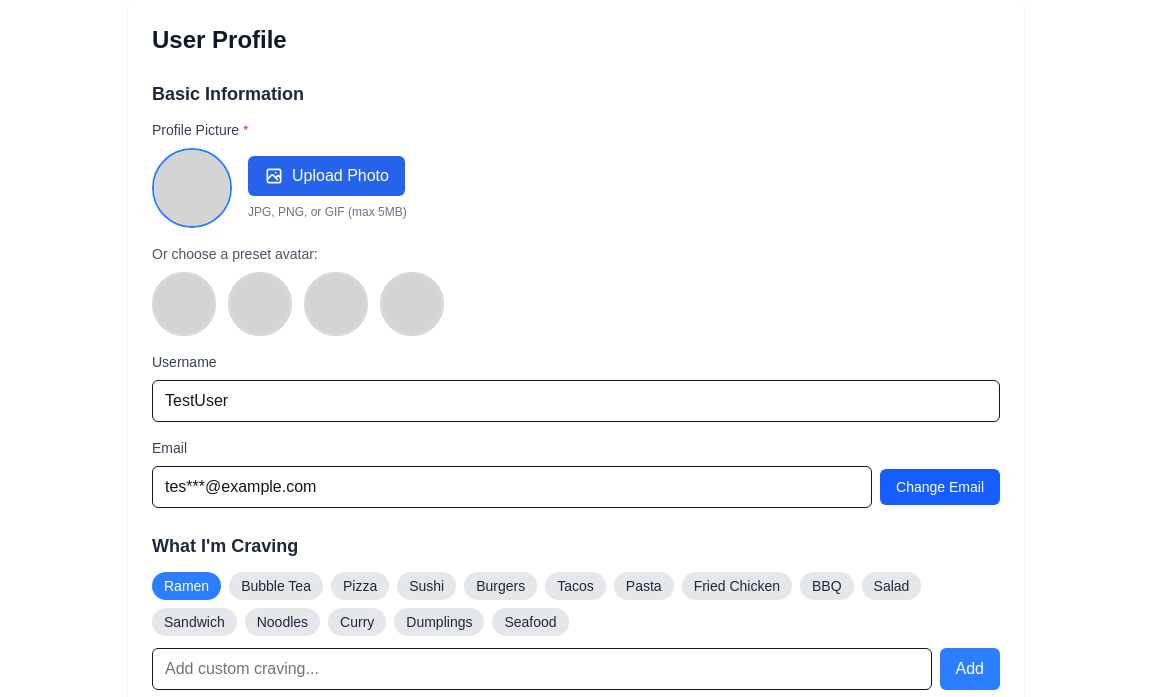
Test: UserProfileForm › allows adding custom craving
The image size is (1152, 697).
Type "Custom Food" into the field with placeholder "Add custom craving...". click: (542, 669)
box: [152, 648, 932, 690]
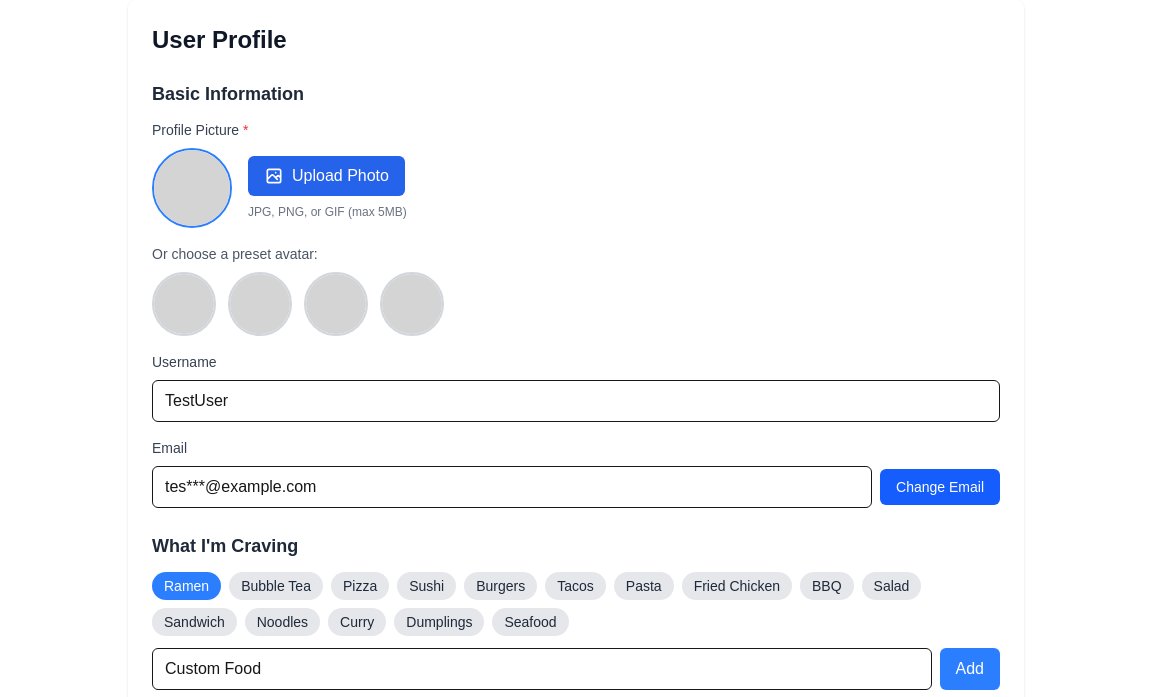
Click the button "Add". click: (970, 669)
box: [940, 648, 1000, 690]
(page scrolled)
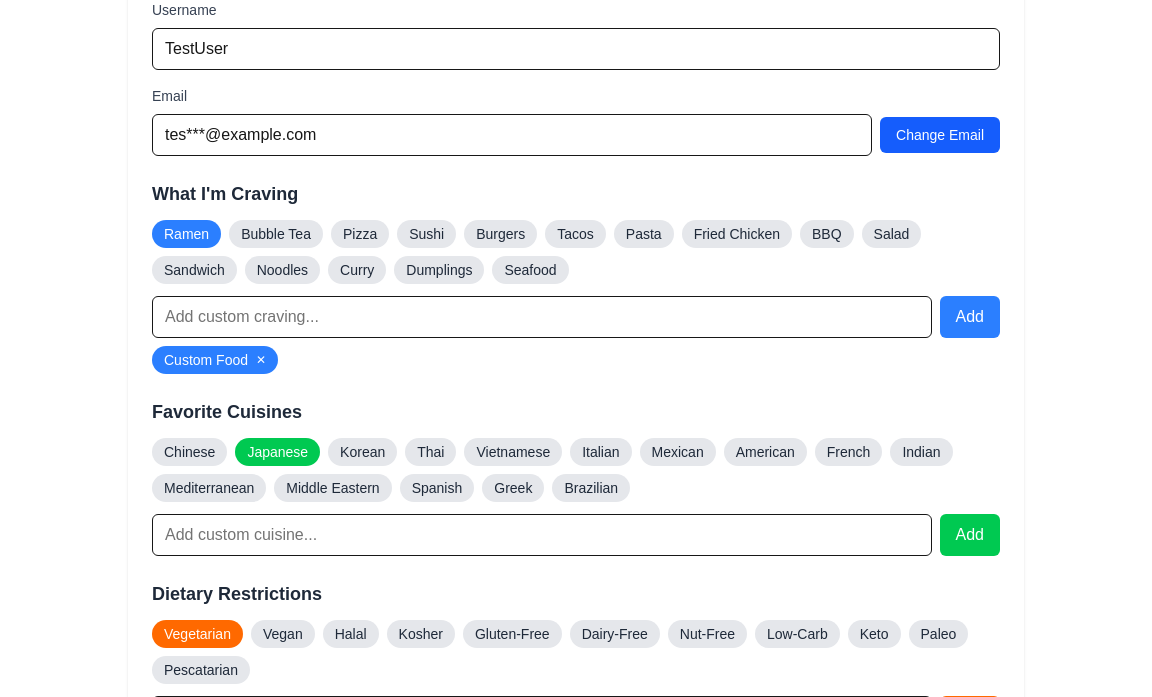
Expected: the text "Custom Food" is shown, [164, 352, 248, 368]
